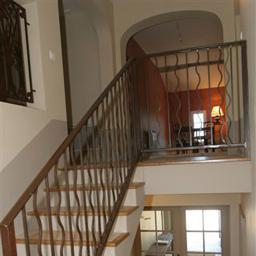Escaleras: (3, 63, 135, 255)
